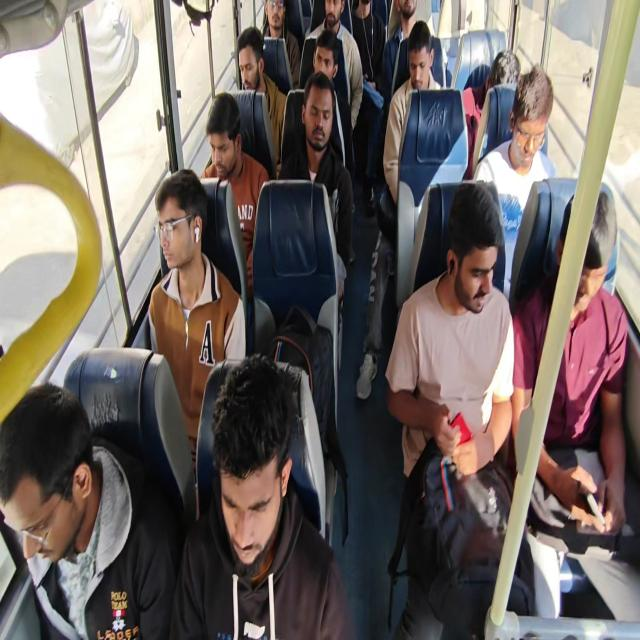person: (212, 350, 296, 550), (0, 392, 99, 551), (560, 176, 624, 314), (156, 186, 235, 297), (430, 194, 499, 314), (506, 71, 560, 179), (206, 89, 245, 194), (301, 74, 341, 169), (404, 31, 448, 87), (232, 30, 268, 96), (311, 36, 344, 88), (484, 44, 515, 94), (262, 0, 288, 46), (316, 0, 353, 31), (396, 0, 422, 25)
